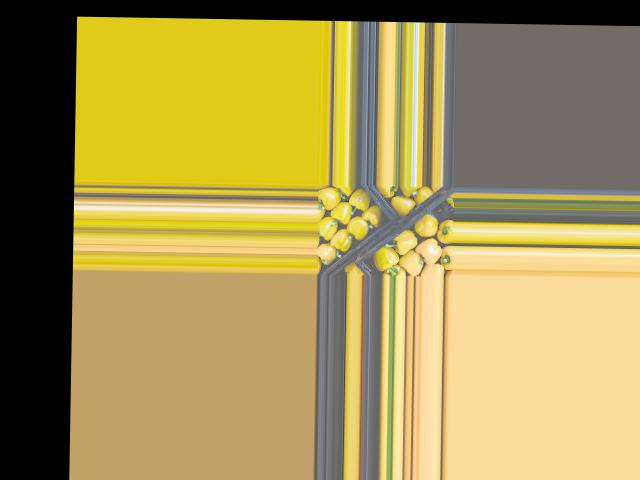bell_pepper: (318, 183, 345, 207)
